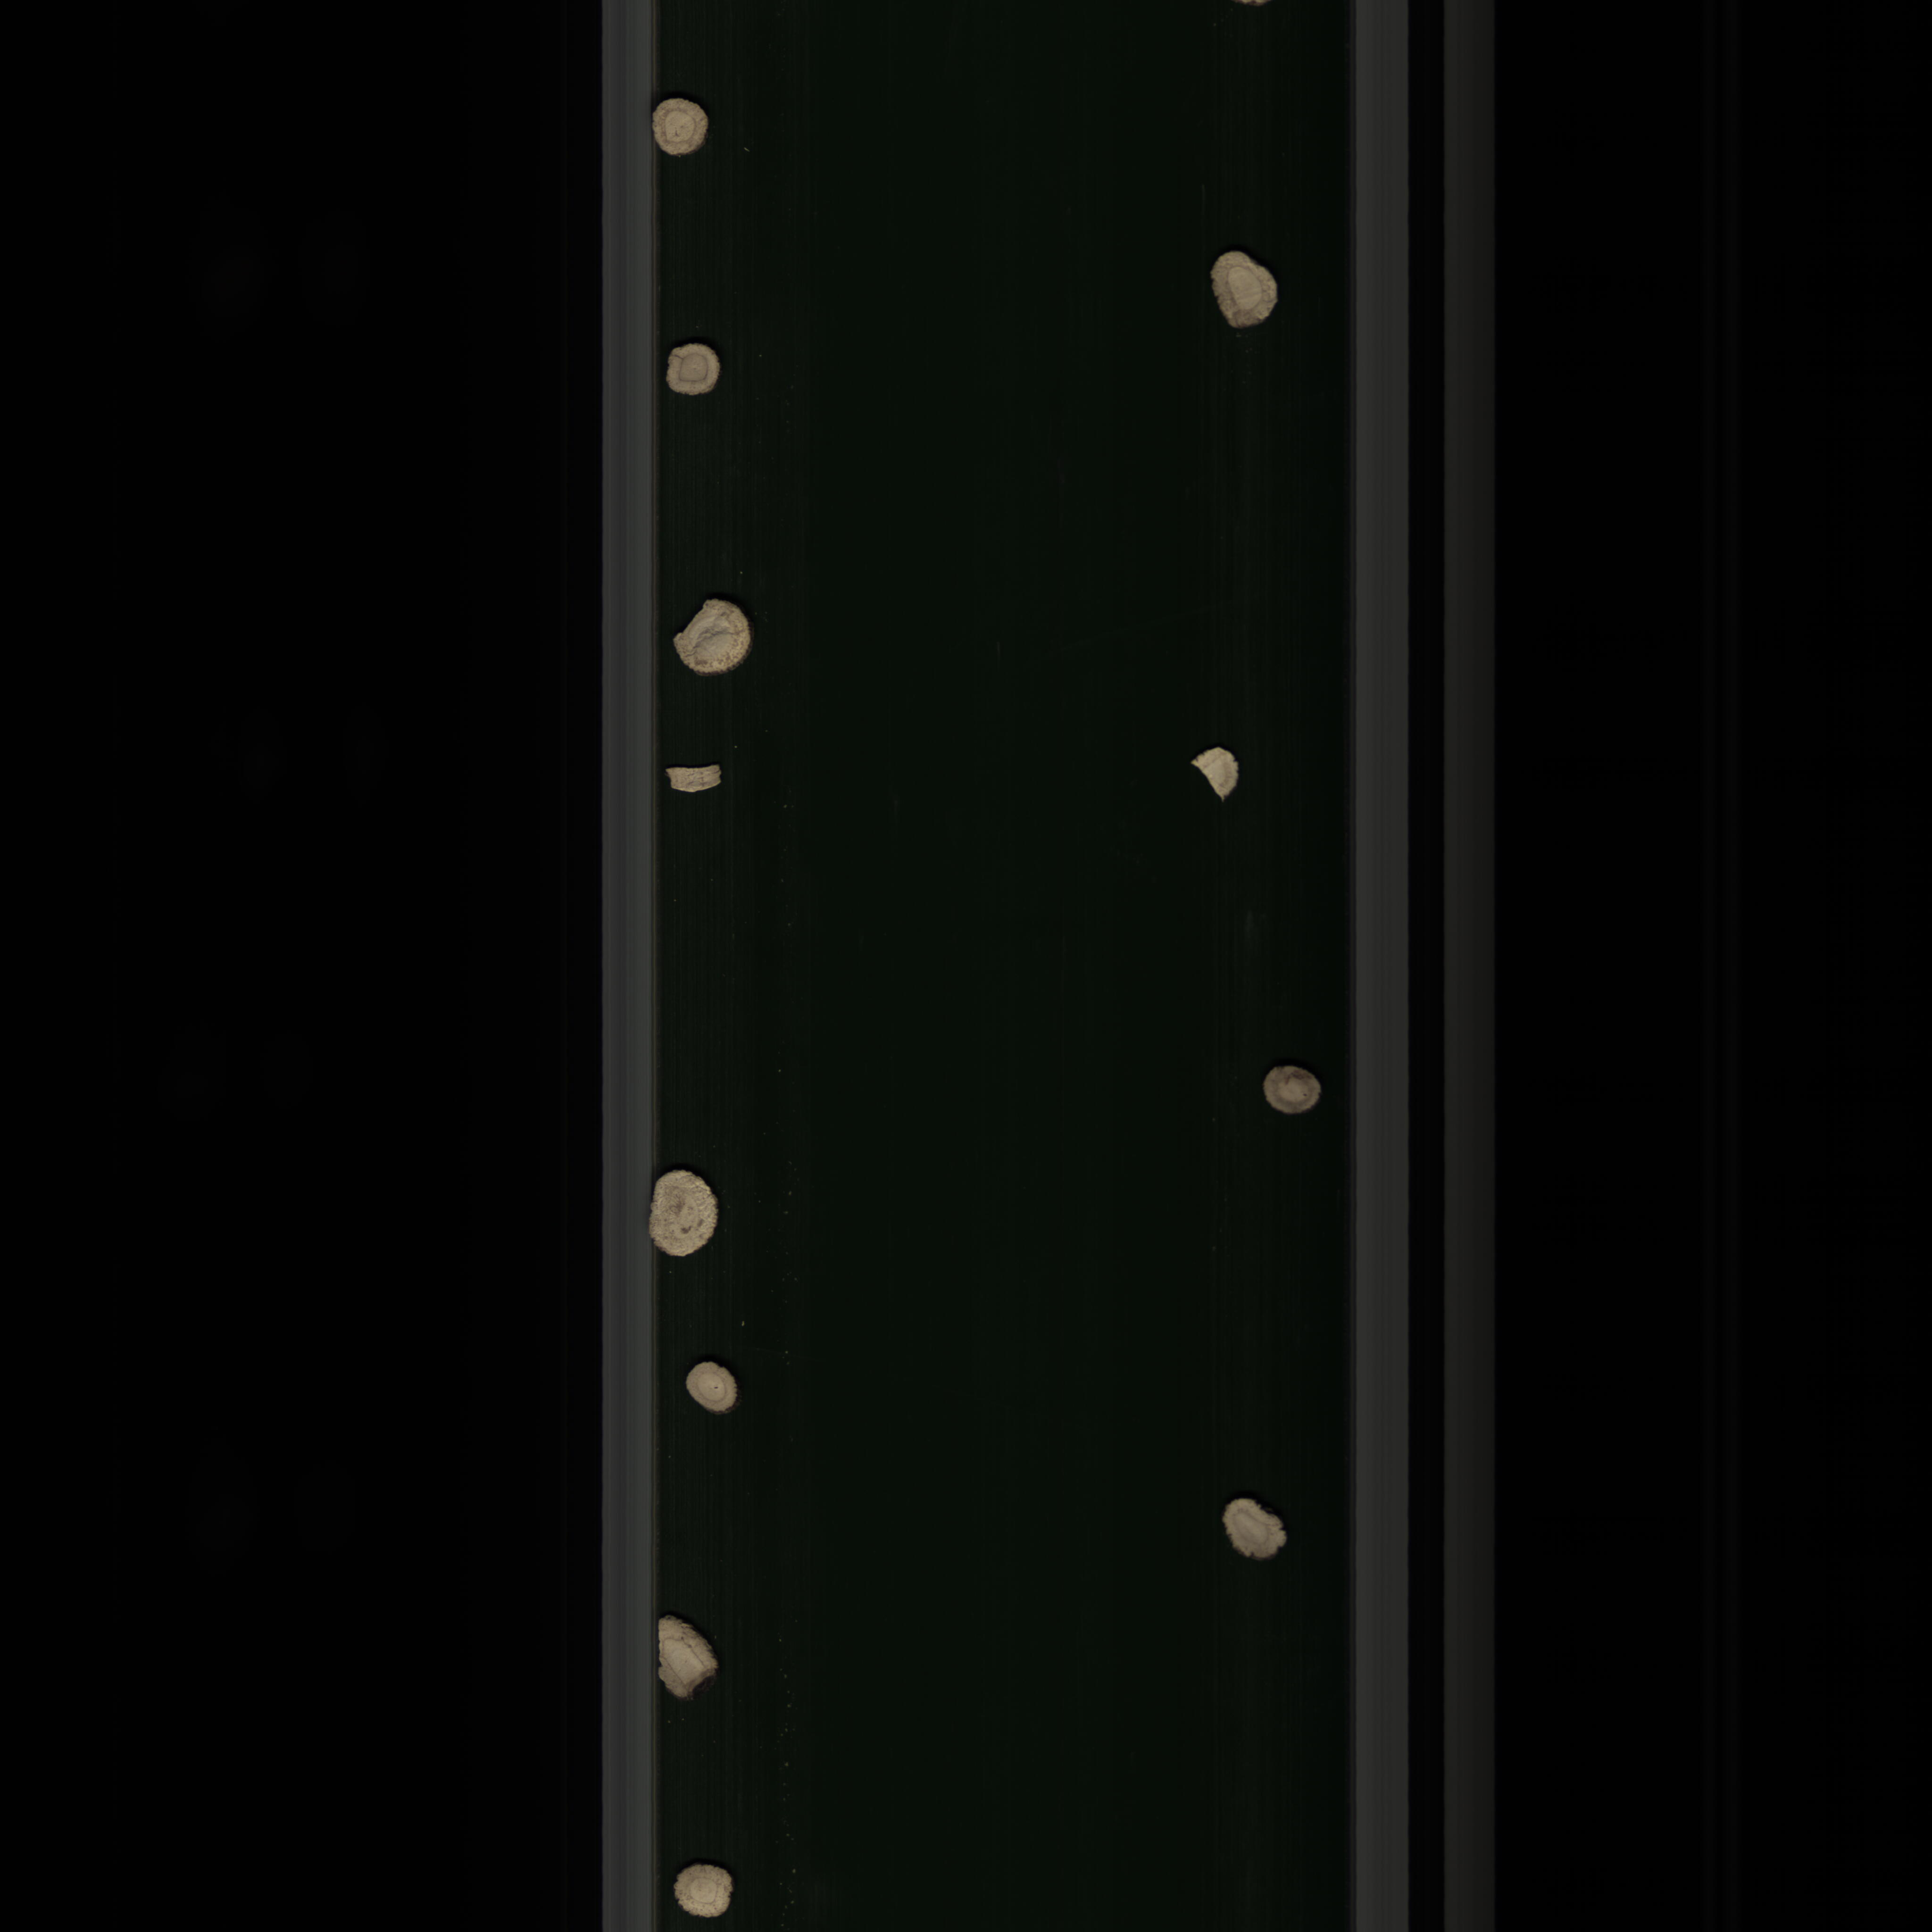debris: (653, 1608, 722, 1707), (1185, 734, 1253, 812), (658, 755, 736, 798)
moldy: (1246, 1058, 1330, 1125), (663, 334, 738, 405)
